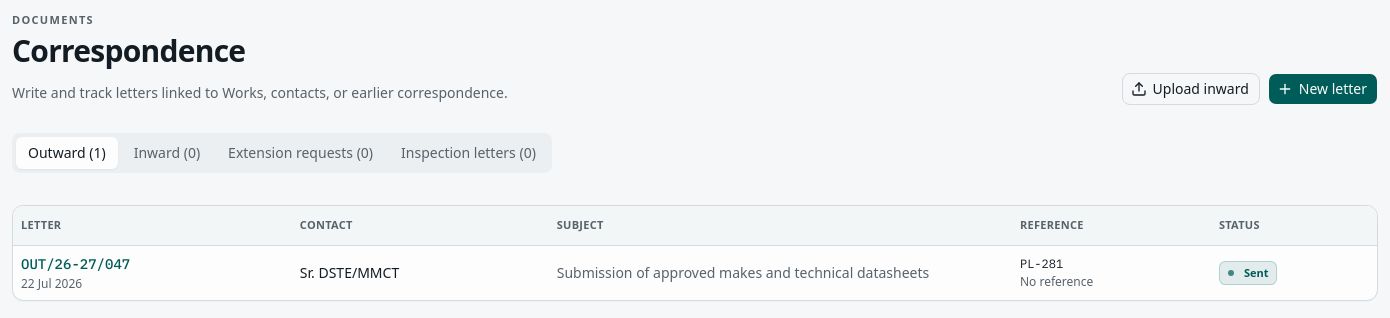
it: the correspondence register › shows the reply-due column on the inward tab only
Check: the button "OUT/26-27/047" is shown, box [21,254,130,274]
Check: the column heading "Reply due" is not shown
Click the button "Inward (0)" at {"x": 167, "y": 152}, box [122,136,212,168]
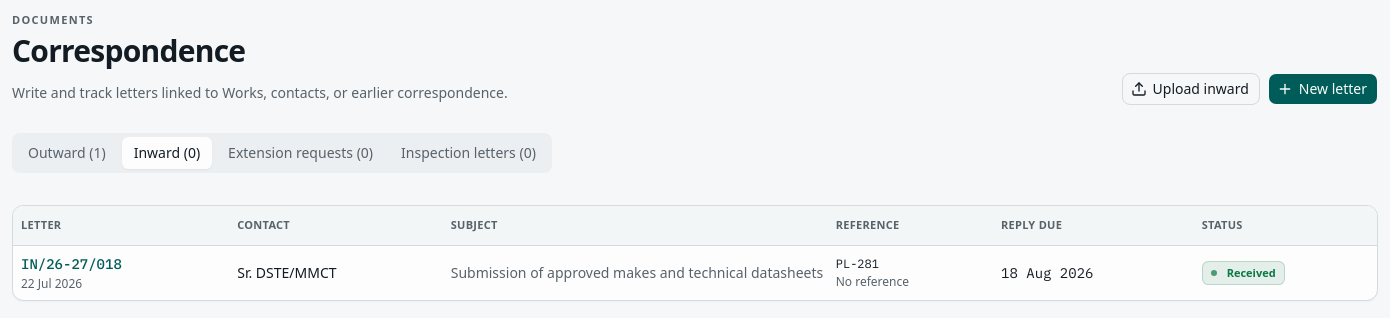
Check: the column heading "Reply due" is shown, box [993,206,1194,246]
Check: the text "18 Aug 2026" is shown, box [993,246,1194,300]
